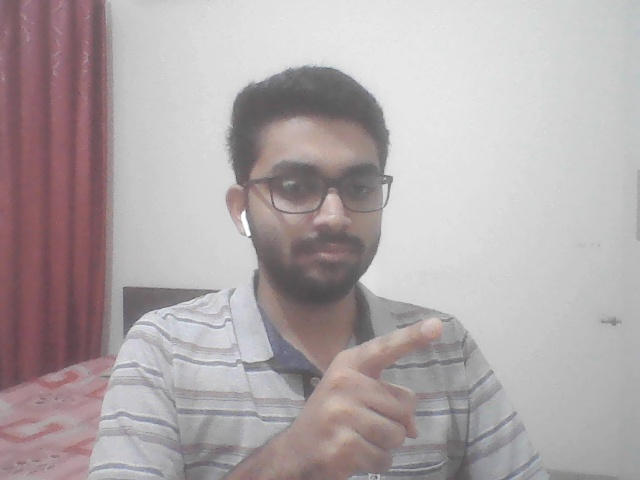you: (263, 294, 482, 477)
